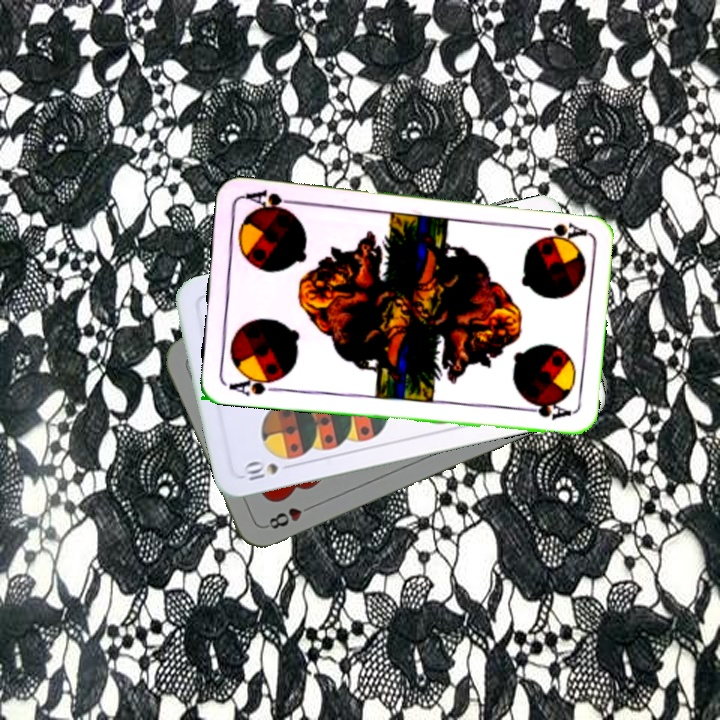H8: (261, 500, 317, 532)
S10: (239, 458, 297, 483)
SA: (224, 371, 284, 398), (529, 219, 588, 241)
